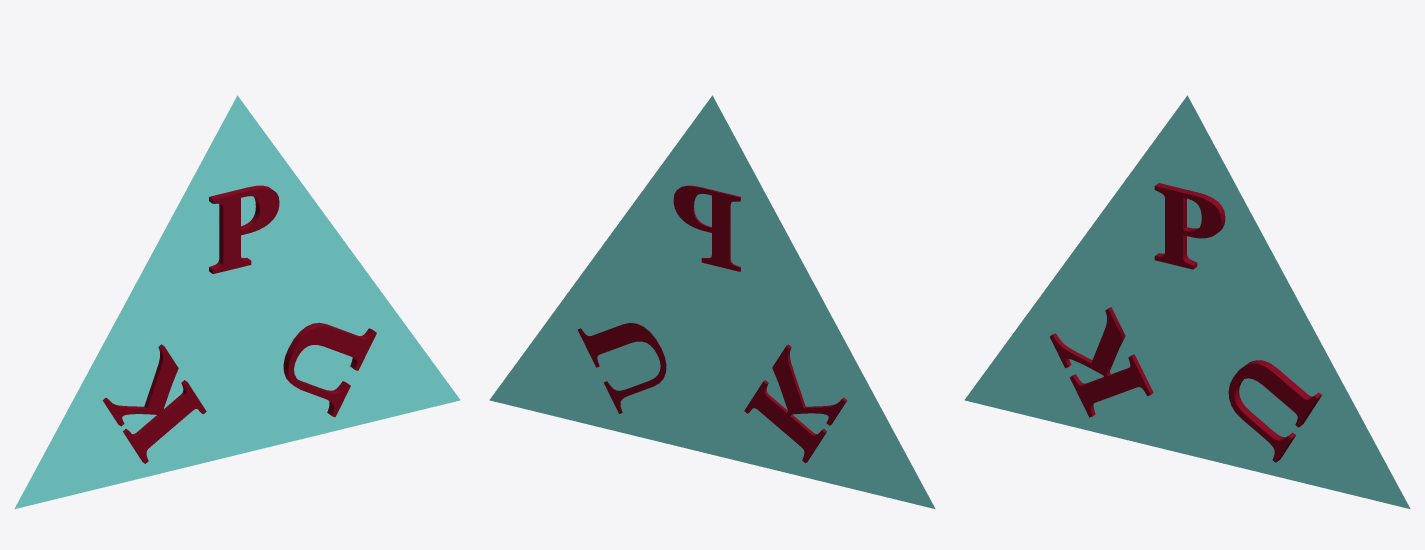
Rendered from pku.fbx.
The picture shows the model from 3 angles, left to right: view 1: azimuth 30°, elevation 25°; view 2: azimuth 150°, elevation 25°; view 3: azimuth 330°, elevation 25°; orthographic projection.
Parts seen in each view (by area): view 1: node_id107, node_id81, node_id46, node_id89; view 2: node_id107, node_id81, node_id46, node_id89; view 3: node_id107, node_id81, node_id89, node_id46.
Boxes of the visible parts, <box> form: node_id107: <box>14,95,460,508</box>; node_id81: <box>102,344,206,463</box>; node_id46: <box>209,185,279,273</box>; node_id89: <box>283,322,376,417</box>; node_id107: <box>489,95,935,508</box>; node_id81: <box>744,344,847,463</box>; node_id46: <box>673,185,740,271</box>; node_id89: <box>577,322,666,413</box>; node_id107: <box>964,95,1410,508</box>; node_id81: <box>1050,307,1153,417</box>; node_id89: <box>1228,360,1321,462</box>; node_id46: <box>1154,183,1225,269</box>.
Bounding box in the file's own units: 0.753 × 0.666 × 0.0204.
4 materials, 1 textured.
